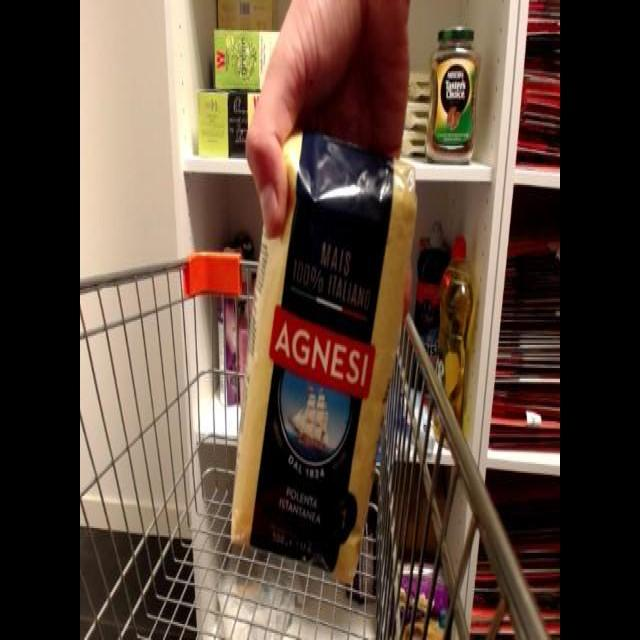Agnesi Polenta: (223, 141, 431, 591)
